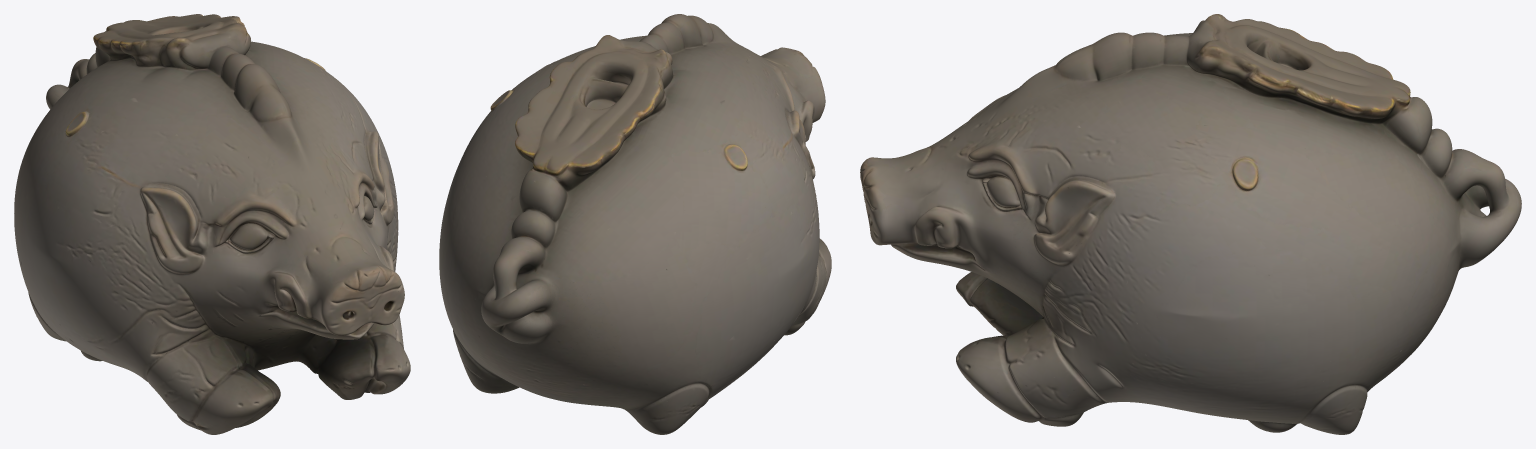
Rendered from pig2.glb.
3 views of the same model, side by side, from view 1: azimuth 30°, elevation 25°; view 2: azimuth 150°, elevation 25°; view 3: azimuth 270°, elevation 25° (orthographic). The views are drawn at different scales.
Visible parts, largest first — view 1: node_0; view 2: node_0; view 3: node_0.
Part boxes in pixels (bbox=[...]): node_0: bbox=[14, 14, 410, 434]; node_0: bbox=[439, 14, 831, 434]; node_0: bbox=[860, 14, 1521, 434].
Size of the model in its own units: 0.739 by 0.7083 by 1.19.
1 material, 1 textured.
